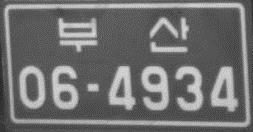-: (84, 79, 101, 94)
0: (17, 63, 47, 110)
3: (174, 65, 204, 112)
4: (208, 64, 241, 113), (106, 64, 138, 113)
6: (49, 64, 81, 110)
9: (139, 64, 170, 112)
부산_D: (55, 14, 191, 55)
